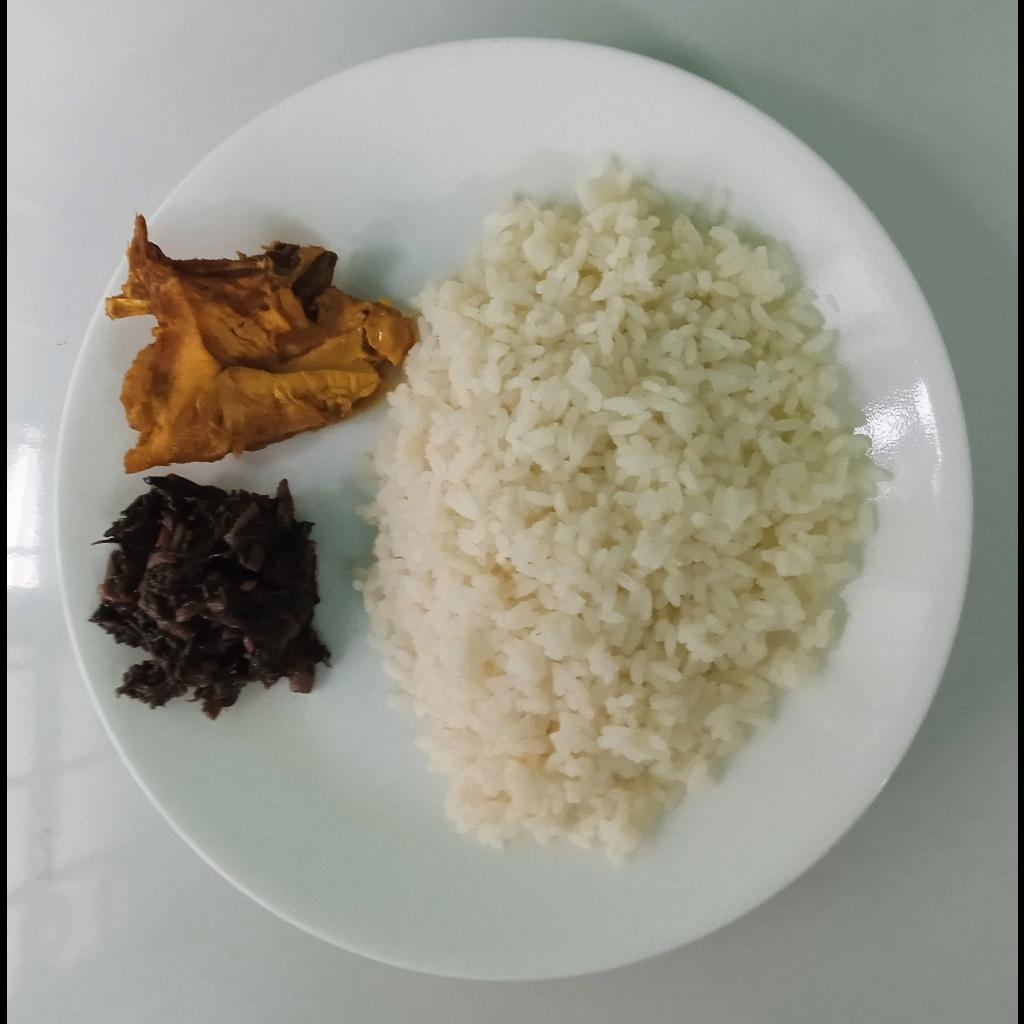chicken: (101, 208, 417, 473)
lal-shak: (88, 472, 330, 720)
rice: (346, 152, 889, 867)
